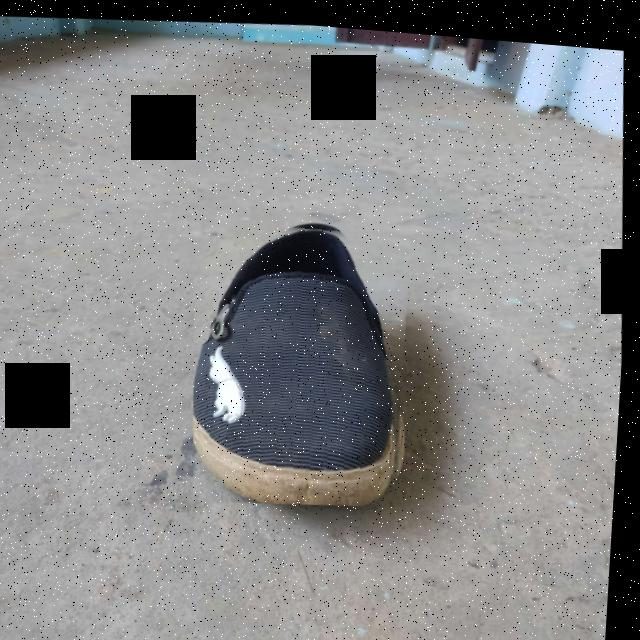shoe: (185, 204, 427, 511)
